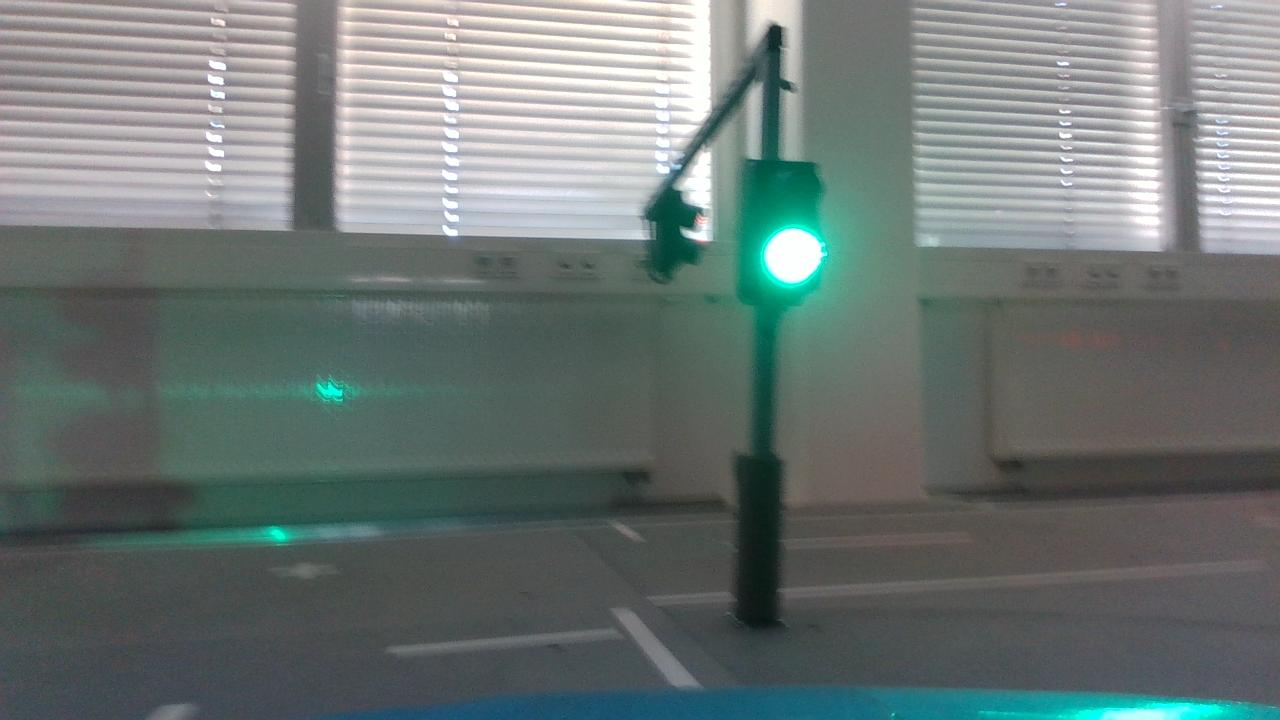traffic_light_green: (726, 141, 844, 320)
